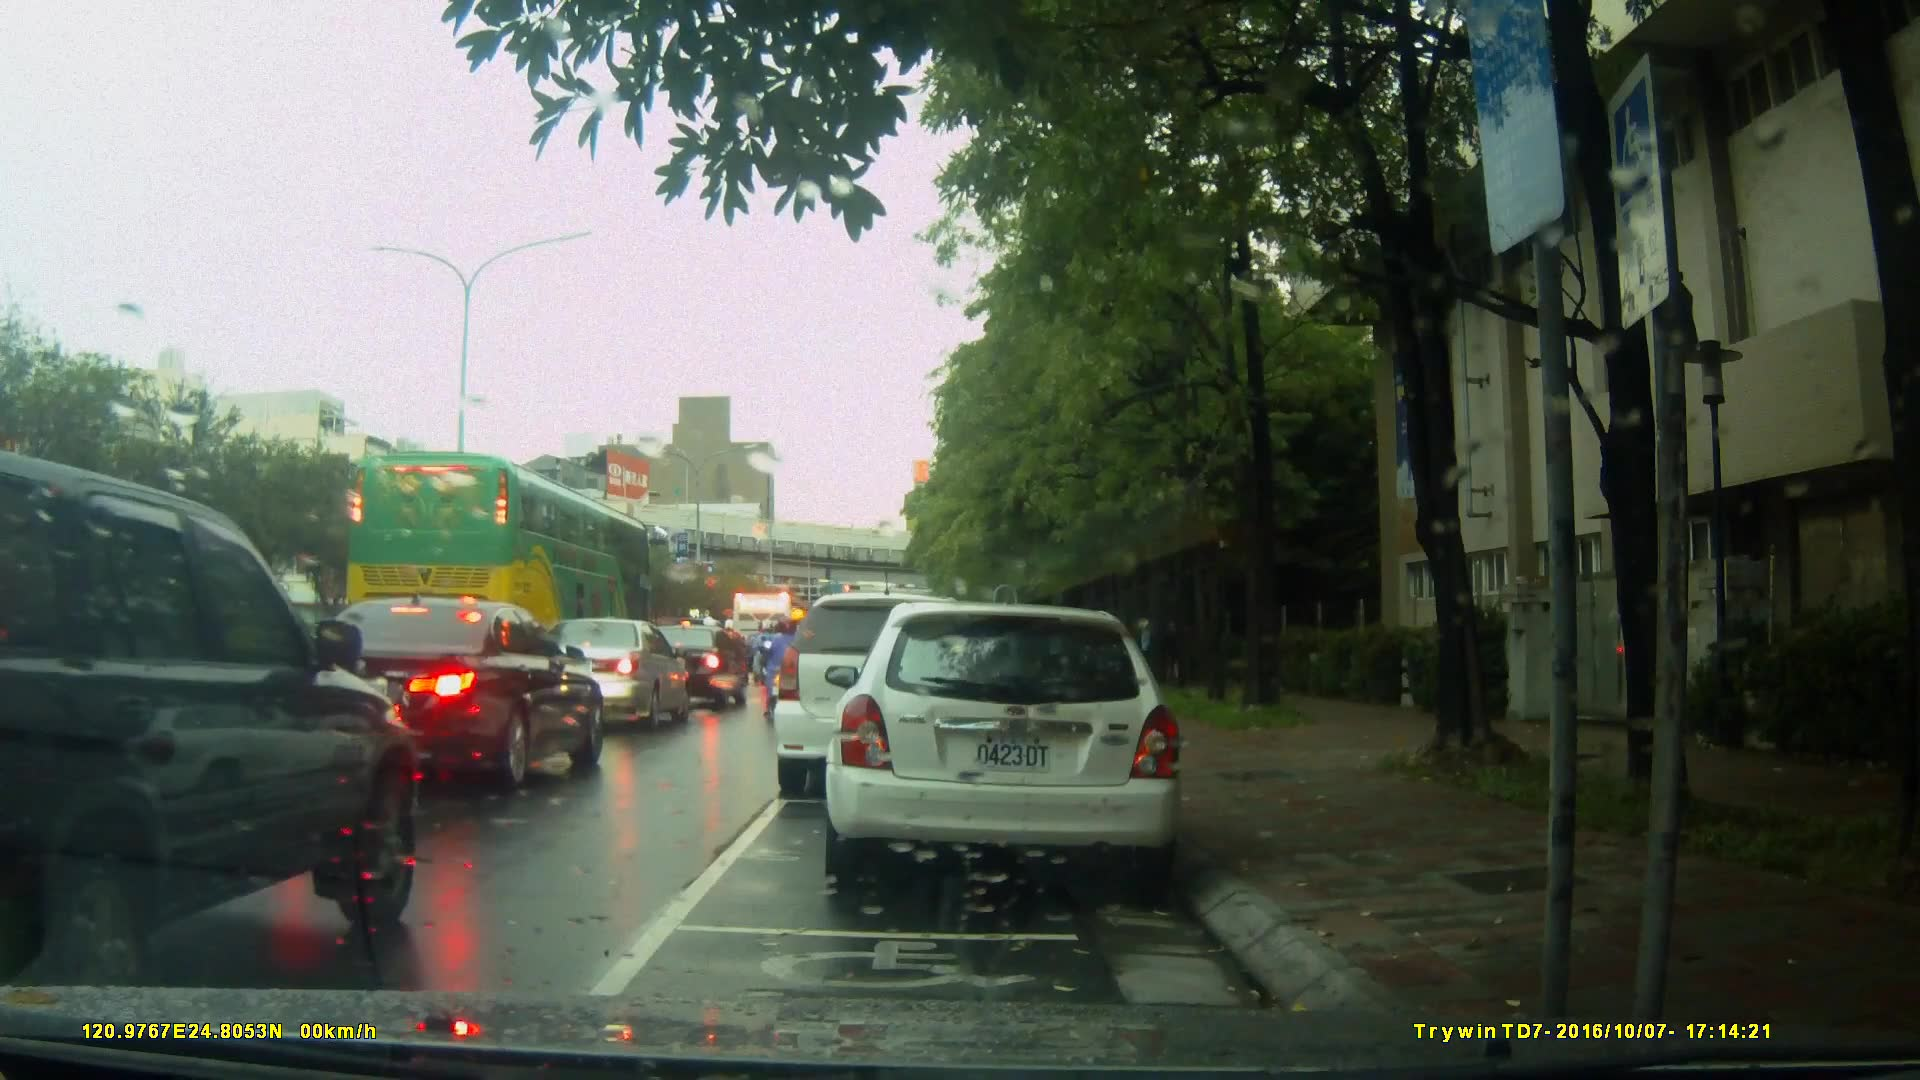rider: (757, 615, 799, 713)
vehicle: (1, 448, 424, 987), (831, 592, 1196, 897), (261, 595, 610, 801), (340, 447, 657, 659), (781, 601, 999, 802), (523, 616, 691, 731), (643, 625, 752, 714)
